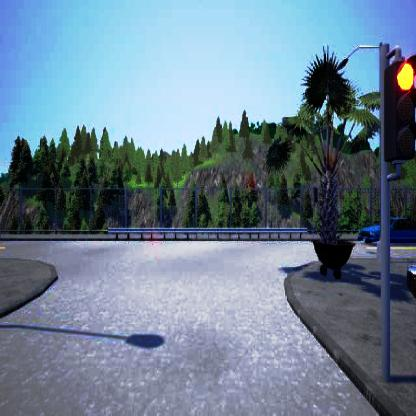vehicle: (357, 216, 415, 242)
